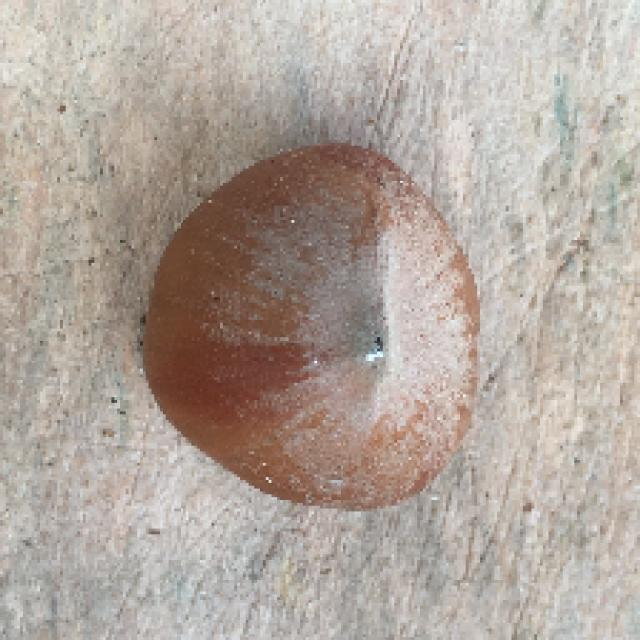QualityHazelnut: (144, 136, 482, 512)
